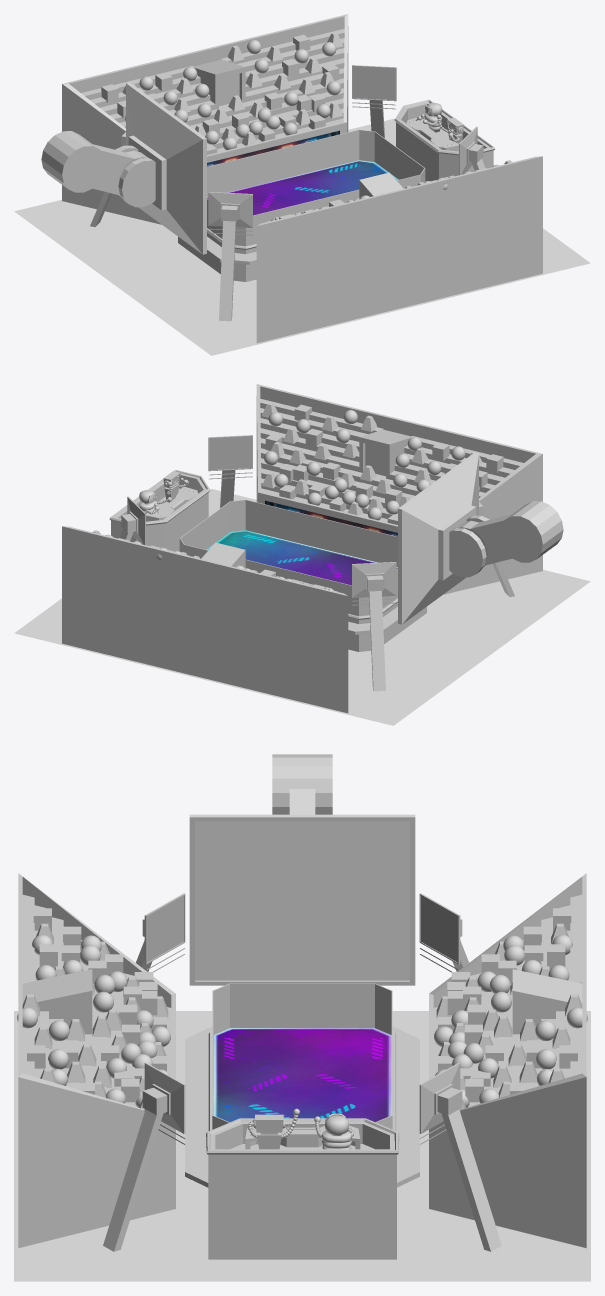
File: Arena_fight1.fbx
3 views of the same model, one above another, from view 1: azimuth 30°, elevation 25°; view 2: azimuth 150°, elevation 25°; view 3: azimuth 270°, elevation 25° (orthographic). The views are drawn at different scales.
Parts seen in each view (by area): view 1: Plane.004, Plane.011, Plane.006, Plane.017, Plane.013, Plane.008, Plane.019, Plane.010, Plane.001, Plane.026, Cube.004, Cube.005 (+15 smaller); view 2: Plane.004, Plane.011, Plane.006, Plane.017, Plane.013, Plane.008, Plane.019, Plane.010, Plane.001, Plane.026, Cube.004, Cube.005 (+15 smaller); view 3: Plane.004, Plane.006, Plane.011, Plane.001, Plane.019, Plane.008, Plane.013, Plane.017, Plane.005, Cube.004, Cube.008, Cube.006 (+16 smaller).
Part boxes in pixels (x1,y1,x2,y2): Plane.004: (62, 16, 542, 343); Plane.011: (14, 119, 590, 355); Plane.006: (126, 82, 206, 254); Plane.017: (207, 131, 425, 246); Plane.013: (81, 28, 344, 152); Plane.008: (90, 65, 485, 321); Plane.019: (207, 160, 398, 215); Plane.010: (41, 131, 105, 192); Plane.001: (396, 102, 493, 181); Plane.026: (62, 14, 542, 225); Cube.004: (101, 34, 486, 223); Cube.005: (155, 32, 512, 215); Plane.004: (62, 386, 542, 713); Plane.011: (14, 489, 590, 725); Plane.006: (398, 452, 478, 624); Plane.017: (179, 501, 397, 616); Plane.013: (260, 398, 523, 522); Plane.008: (119, 435, 514, 691); Plane.019: (206, 530, 397, 585); Plane.010: (499, 501, 563, 562); Plane.001: (111, 473, 208, 551); Plane.026: (62, 384, 542, 595); Cube.004: (118, 404, 503, 593); Cube.005: (92, 402, 449, 585); Plane.004: (18, 877, 586, 1248); Plane.006: (189, 814, 415, 981); Plane.011: (14, 1011, 590, 1281); Plane.001: (208, 1122, 396, 1259); Plane.019: (213, 1028, 391, 1122); Plane.008: (103, 893, 501, 1251); Plane.013: (22, 894, 582, 1106); Plane.017: (212, 986, 392, 1129); Plane.005: (185, 1026, 419, 1187); Cube.004: (27, 908, 577, 1109); Cube.008: (17, 923, 587, 1107); Cube.006: (22, 926, 582, 1103).
Bounding box in the file's own units: 2002 × 751 × 1555.
